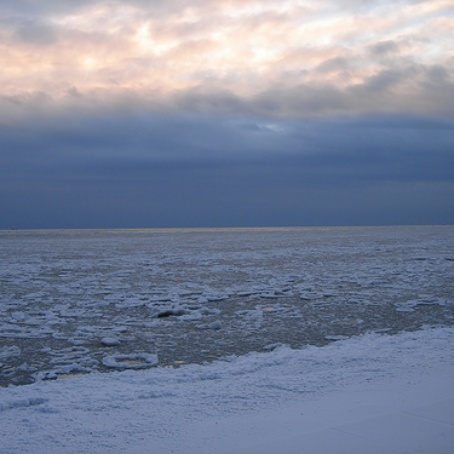sea: (1, 233, 448, 454)
sky: (5, 1, 454, 223)
